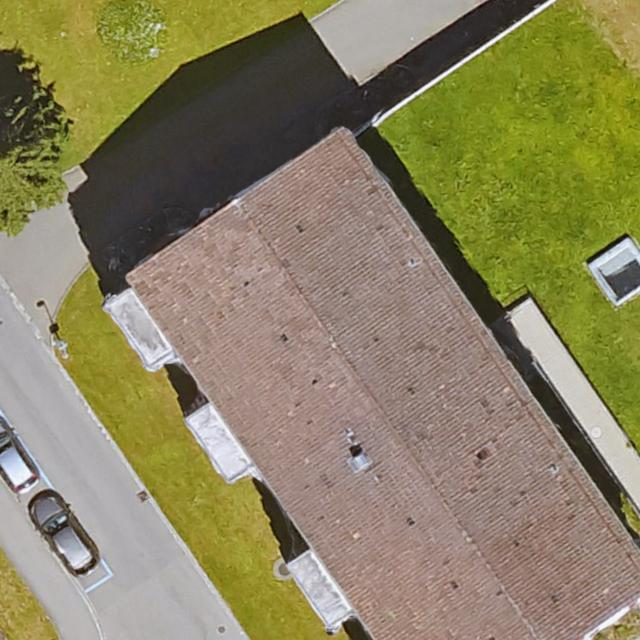tree: (1, 94, 65, 239)
